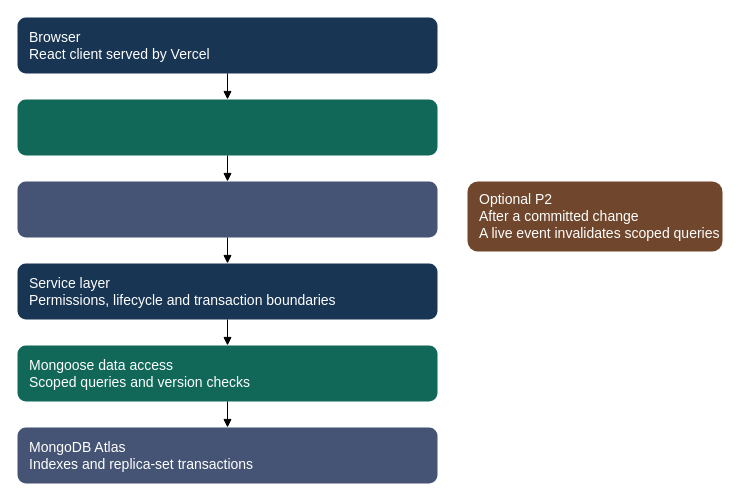
Image size: 739x500. Some labels were removed from this diagram. The shapes that lost their labels are listed below. From the top down, each one's centre as x and y in pixels, then its label:
the point at 227,127: REST API · Render Express middleware · identity and workspace scope
the point at 227,209: Domain controllers Projects, tasks, sprints, workspaces and identity
